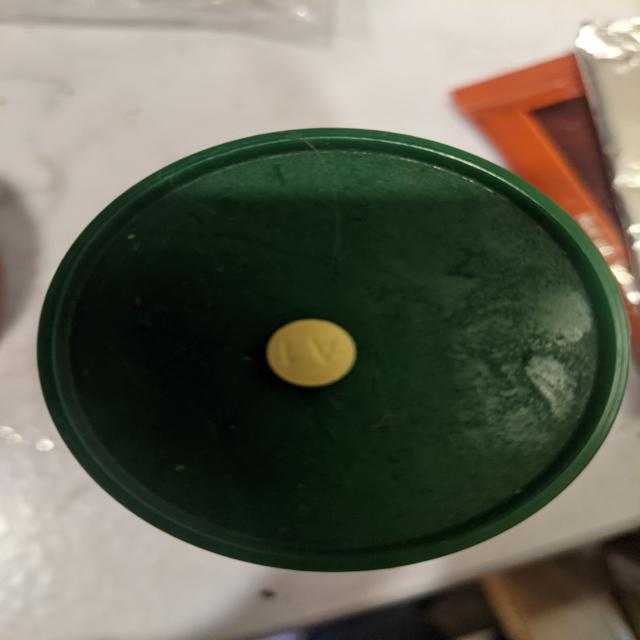non-organic waste: (264, 316, 359, 388)
